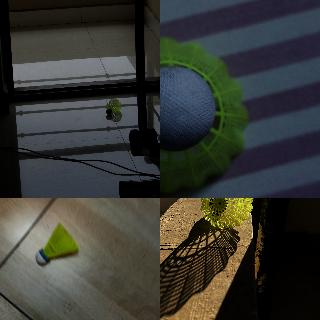shuttlecock: (160, 37, 249, 193), (36, 222, 78, 264), (201, 198, 254, 229), (106, 98, 120, 114)
